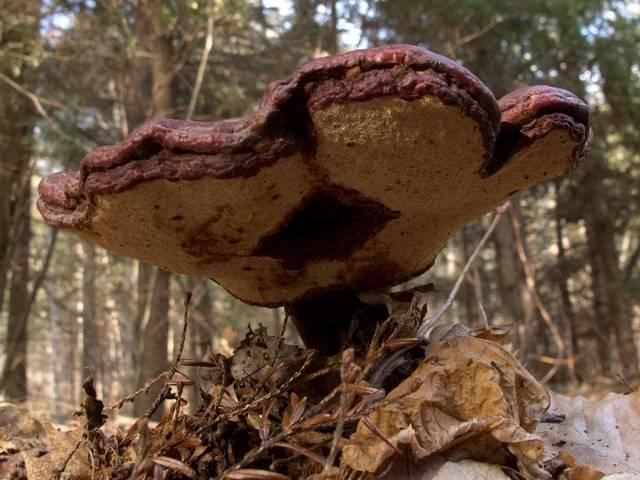poisonous_mushroom: (19, 30, 603, 354)
